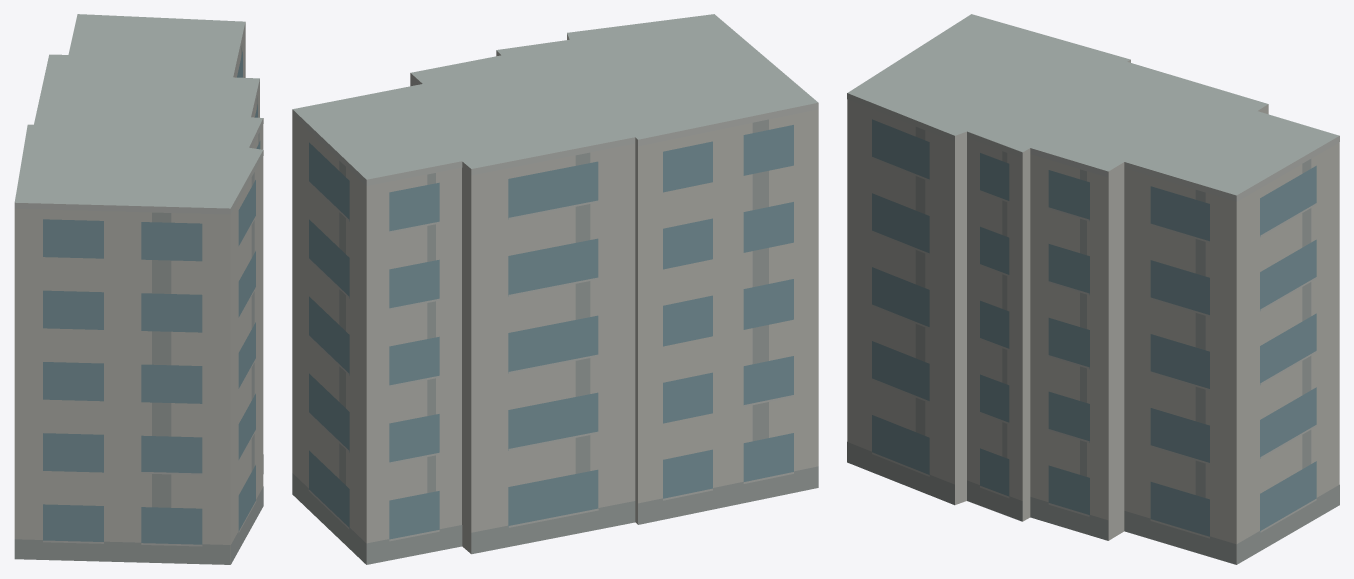
The model's file is survey-upis-32883990.glb.
3 views of the same model, side by side, from view 1: azimuth 30°, elevation 25°; view 2: azimuth 150°, elevation 25°; view 3: azimuth 270°, elevation 25° (orthographic). The views are drawn at different scales.
Parts seen in each view (by area): view 1: survey-upis-32883990.tmp; view 2: survey-upis-32883990.tmp; view 3: survey-upis-32883990.tmp.
Boxes of the visible parts, <box> form: survey-upis-32883990.tmp: <box>14,14,263,564</box>; survey-upis-32883990.tmp: <box>292,14,818,564</box>; survey-upis-32883990.tmp: <box>847,14,1339,564</box>.
Bounding box in the file's own units: 15.02 × 14.25 × 17.23.
